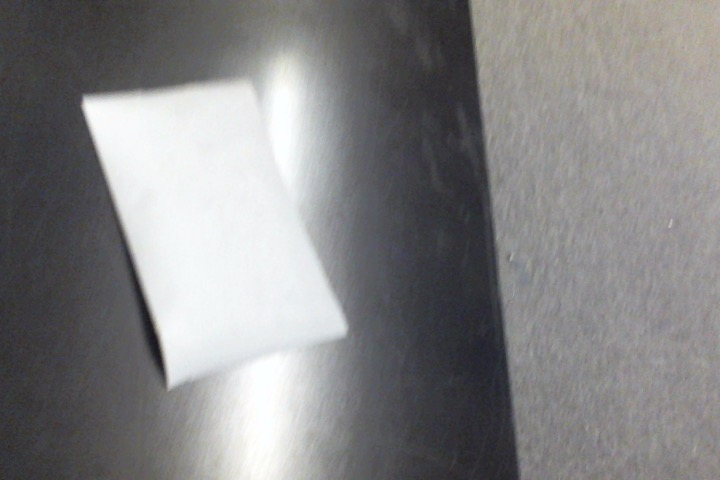Tape: (81, 79, 351, 393)
